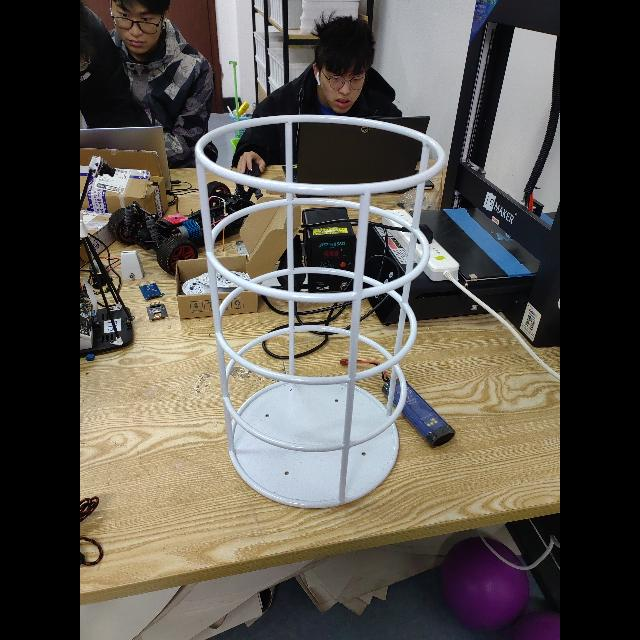S: (190, 107, 452, 511)
